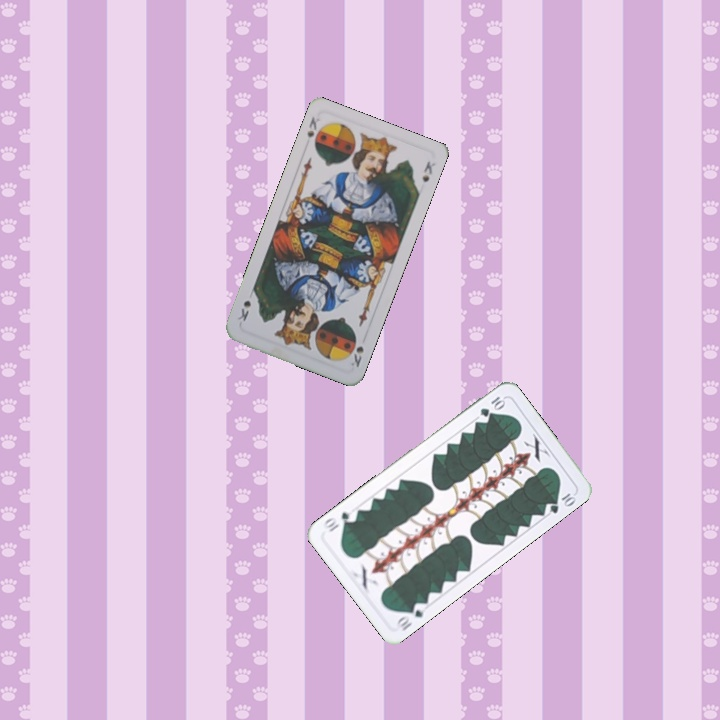G10: (391, 598, 429, 633), (476, 392, 508, 420)
SK: (303, 112, 323, 140), (347, 342, 366, 370)
